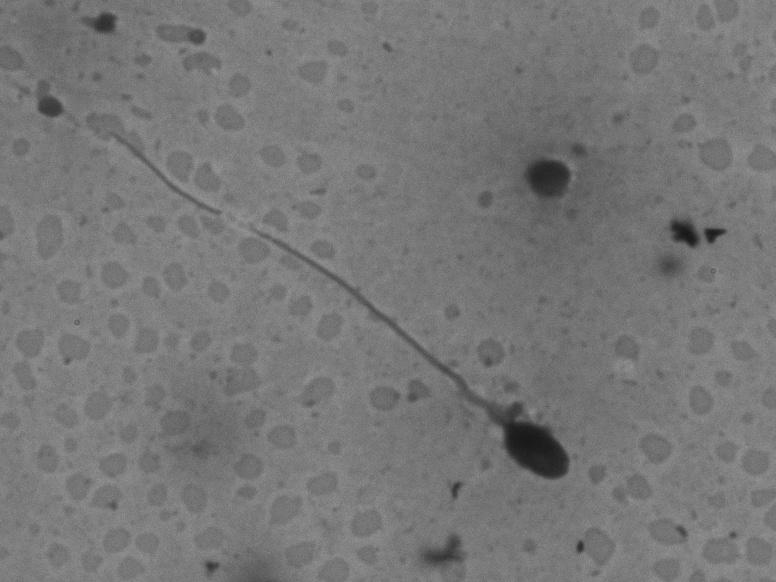Abnormal: (72, 111, 594, 511)
